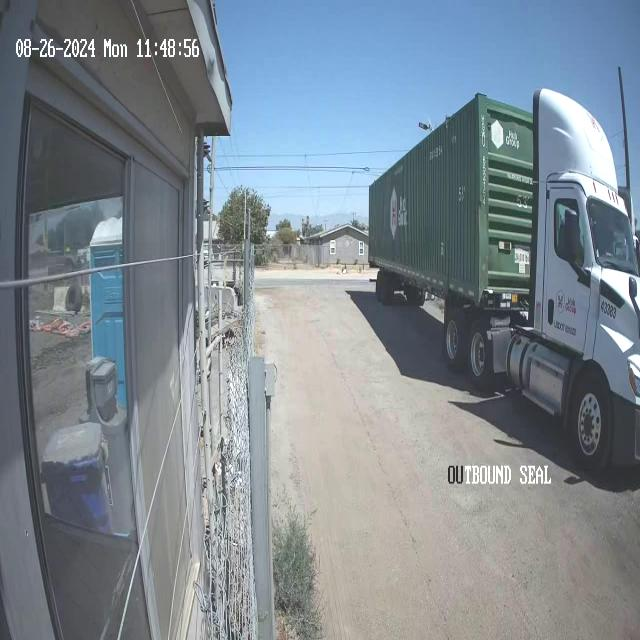CONTAINER: (368, 78, 534, 314)
